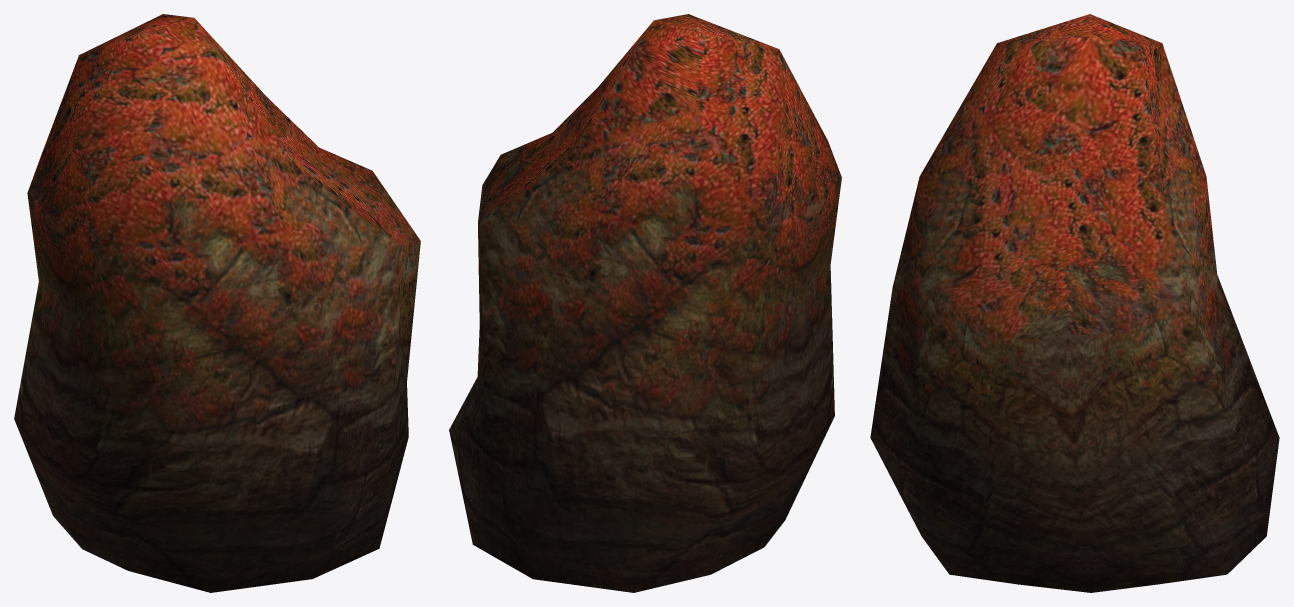
The model's file is leinabaobianyuan_shitou02.FBX.
The picture shows the model from 3 angles, left to right: view 1: azimuth 30°, elevation 25°; view 2: azimuth 150°, elevation 25°; view 3: azimuth 270°, elevation 25°; orthographic projection. The views are drawn at different scales.
Parts seen in each view (by area): view 1: leinabaobianyuan_shitou02; view 2: leinabaobianyuan_shitou02; view 3: leinabaobianyuan_shitou02.
Boxes of the visible parts, bbox=[...] form: leinabaobianyuan_shitou02: bbox=[14, 14, 420, 592]; leinabaobianyuan_shitou02: bbox=[449, 14, 841, 592]; leinabaobianyuan_shitou02: bbox=[870, 14, 1279, 592].
Bounding box in the file's own units: 372 × 528 × 403.
